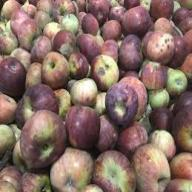apple: (19, 112, 64, 172), (62, 106, 106, 152), (18, 86, 63, 127), (92, 149, 132, 187), (132, 144, 170, 184), (105, 81, 138, 125), (40, 48, 72, 90), (90, 52, 124, 88), (142, 26, 175, 60), (120, 32, 145, 68), (16, 16, 42, 48), (32, 36, 56, 64)
